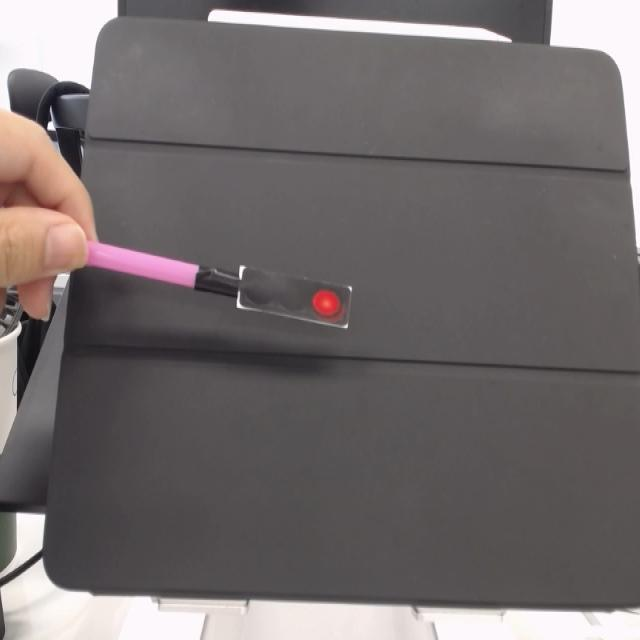traffic light: (229, 265, 354, 332)
